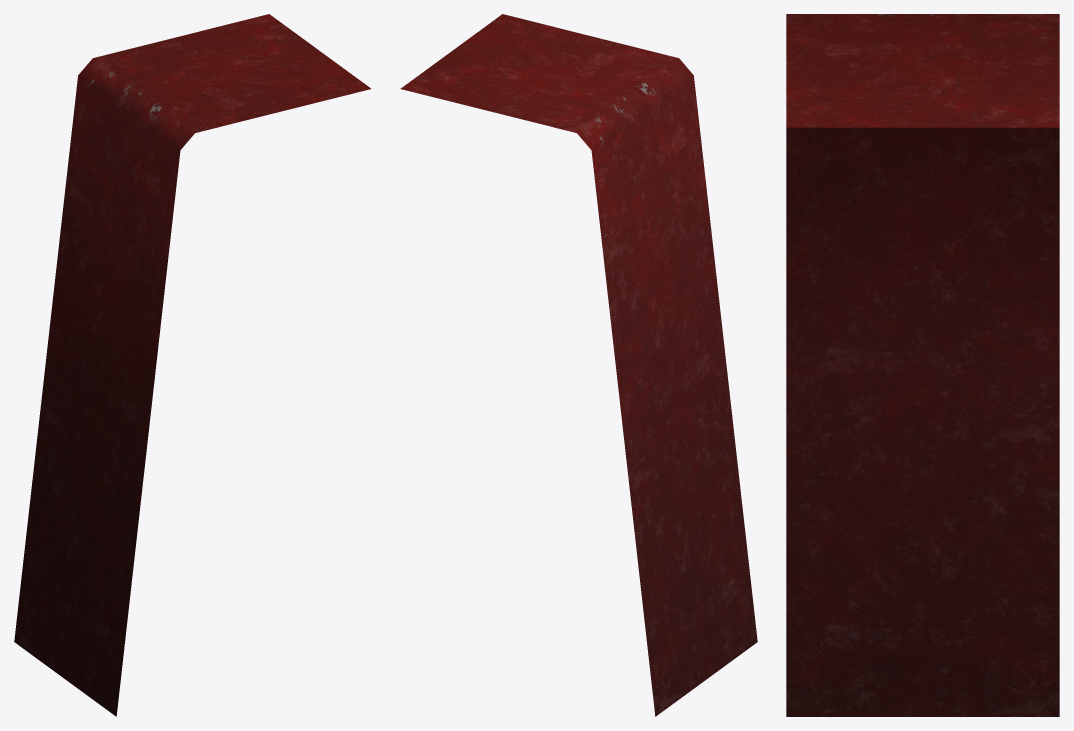
Rendered from SM_Foundation_D_Straight.glb.
The picture shows the model from 3 angles, left to right: view 1: azimuth 30°, elevation 25°; view 2: azimuth 150°, elevation 25°; view 3: azimuth 270°, elevation 25°; orthographic projection. The views are drawn at different scales.
Parts seen in each view (by area): view 1: SM_Foundation_D_Straight; view 2: SM_Foundation_D_Straight; view 3: SM_Foundation_D_Straight.
Boxes of the visible parts, x1=… form: SM_Foundation_D_Straight: x1=14, y1=14, x2=371, y2=716; SM_Foundation_D_Straight: x1=400, y1=14, x2=757, y2=716; SM_Foundation_D_Straight: x1=786, y1=14, x2=1059, y2=716.
Bounding box in the file's own units: 2.89 × 6.12 × 2.01.
1 material, 1 textured.
